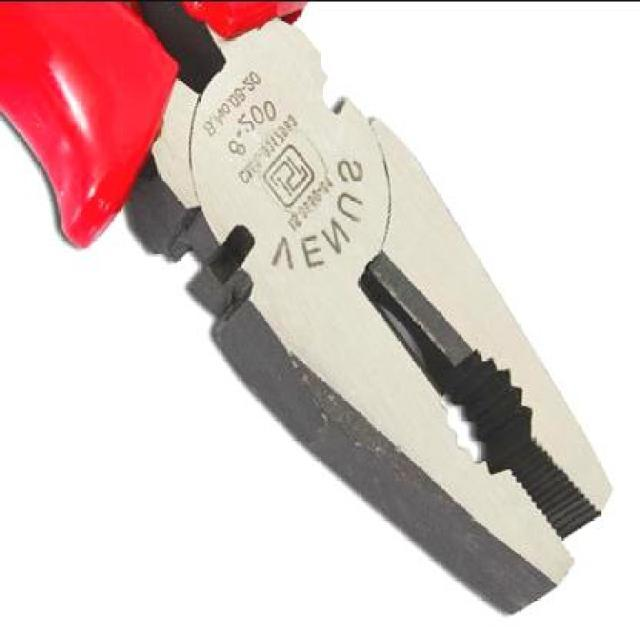pliers: (16, 1, 612, 612)
